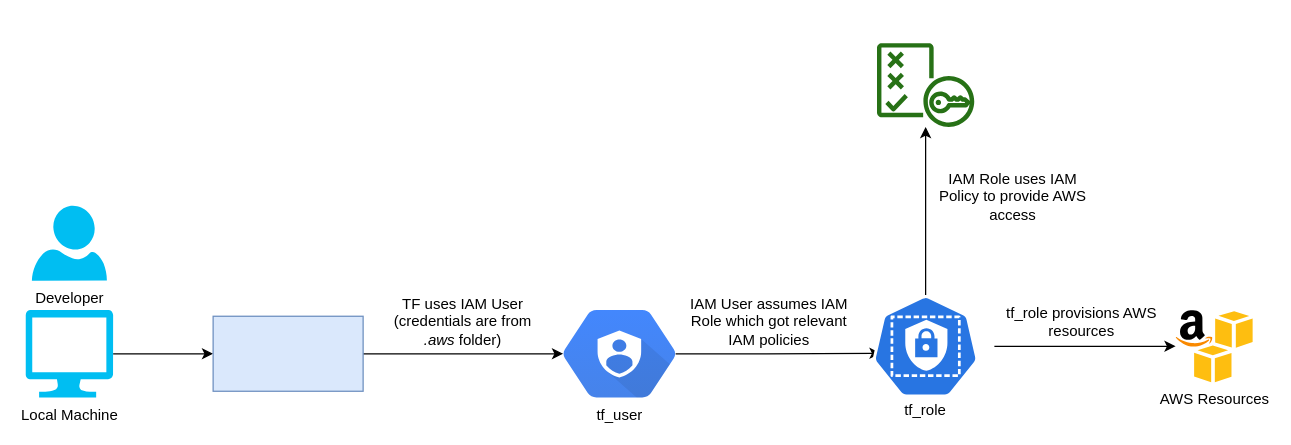
Image size: 1291x445. Some labels were removed from this diagram. Each missing label, with the centre of its shape:
Changes TF code & executes TF apply: (x=287, y=353)
tf_policy: (x=925, y=84)
